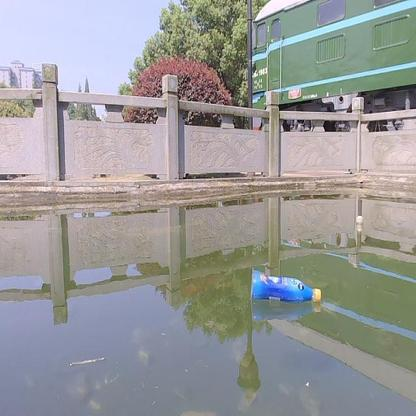plastic bottle: (250, 267, 322, 304)
